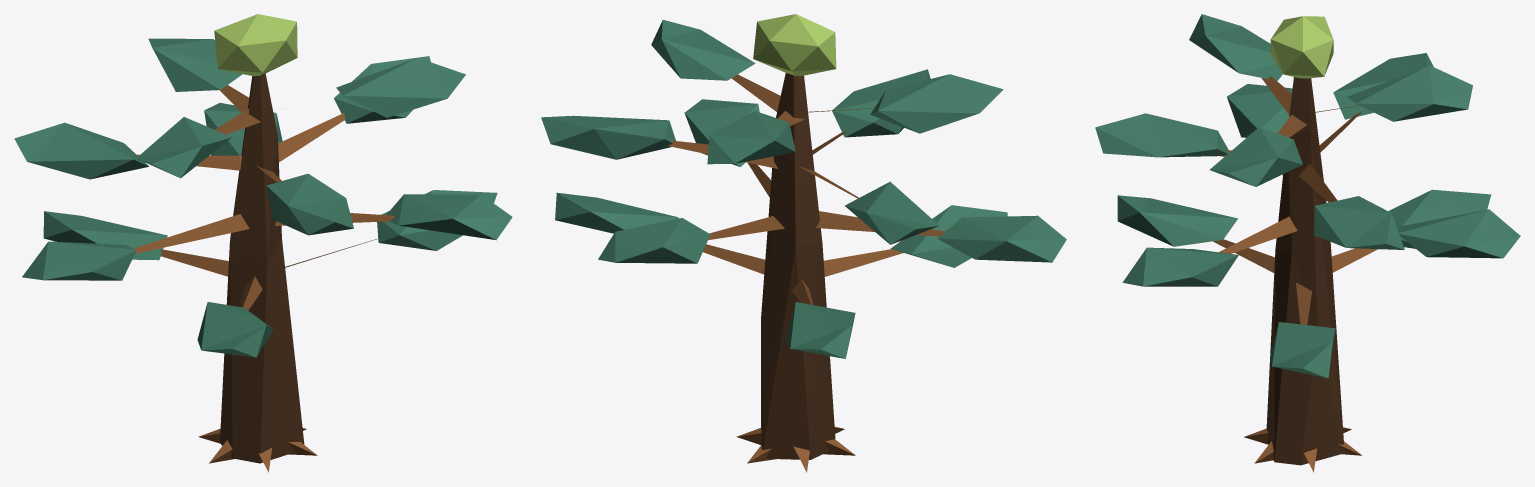
3 renders of one model, left to right at view 1: azimuth 30°, elevation 25°; view 2: azimuth 150°, elevation 25°; view 3: azimuth 270°, elevation 25°, orthographic.
Visible parts, largest first — view 1: WK_FantasyTree_GiantAncientCedar_LOD2_Compact; view 2: WK_FantasyTree_GiantAncientCedar_LOD2_Compact; view 3: WK_FantasyTree_GiantAncientCedar_LOD2_Compact.
Part boxes in pixels (x1,y1,x2,y2): WK_FantasyTree_GiantAncientCedar_LOD2_Compact: [14, 14, 512, 472]; WK_FantasyTree_GiantAncientCedar_LOD2_Compact: [541, 14, 1066, 472]; WK_FantasyTree_GiantAncientCedar_LOD2_Compact: [1095, 14, 1520, 472].
Size of the model in its own units: 13.11 by 11.31 by 9.99.
